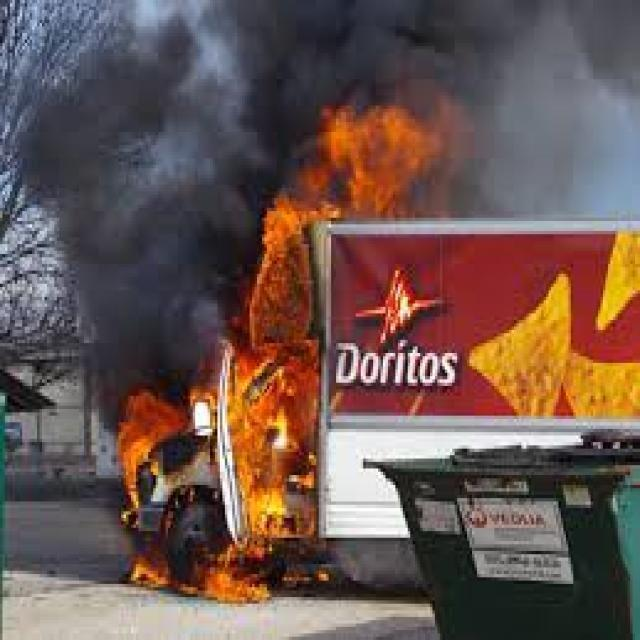Fire: (473, 273, 575, 418), (229, 344, 329, 481), (337, 95, 436, 211), (130, 544, 280, 617), (119, 389, 186, 518), (269, 200, 326, 324), (598, 233, 640, 336), (248, 487, 285, 532)
Smoke: (468, 74, 640, 233), (39, 50, 160, 250), (286, 20, 627, 87), (188, 157, 246, 319), (195, 3, 251, 128), (95, 267, 163, 353)
